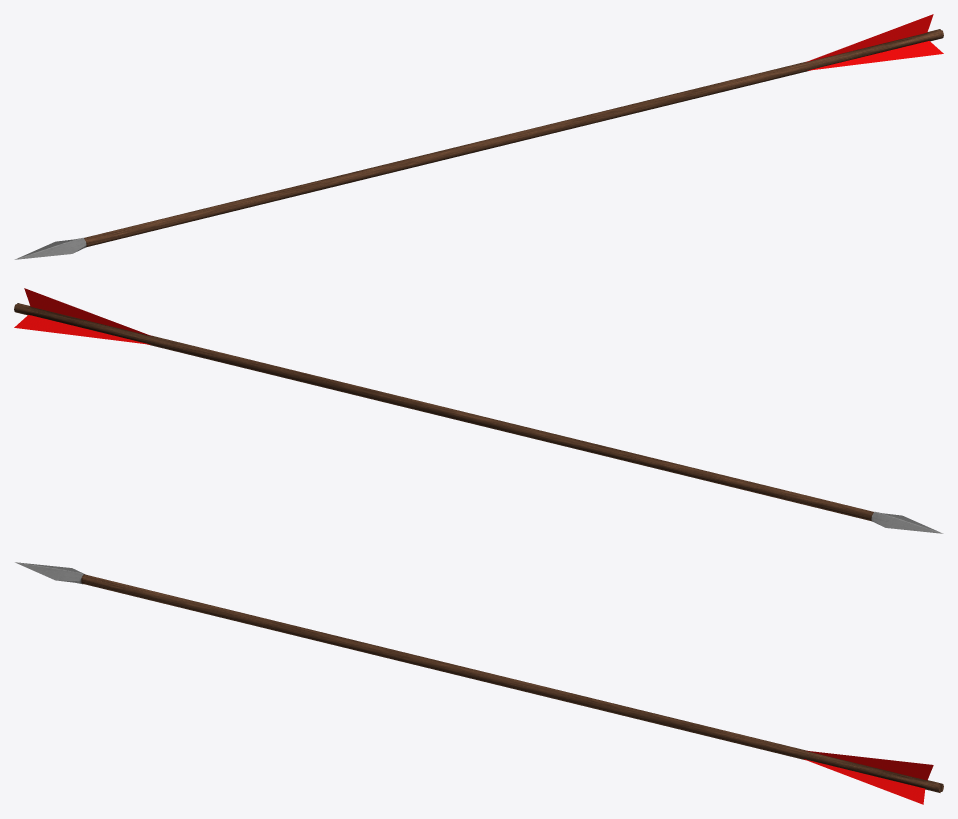
File: Arrow 26 inch .glb
The picture shows the model from 3 angles, top to bottom: view 1: azimuth 30°, elevation 25°; view 2: azimuth 150°, elevation 25°; view 3: azimuth 330°, elevation 25°; orthographic projection.
Parts seen in each view (by area): view 1: Arrow 26 inch _Arrows_0; view 2: Arrow 26 inch _Arrows_0; view 3: Arrow 26 inch _Arrows_0.
Boxes of the visible parts, x1=… form: Arrow 26 inch _Arrows_0: x1=14, y1=14, x2=943, y2=259; Arrow 26 inch _Arrows_0: x1=14, y1=288, x2=943, y2=533; Arrow 26 inch _Arrows_0: x1=15, y1=562, x2=943, y2=804.
Bounding box in the file's own units: 71.4 × 2.38 × 2.74.
Materials: 1 (1 with a texture image).
